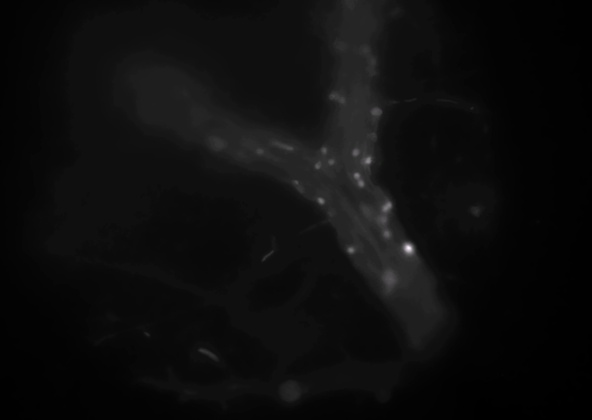cell: (402, 241, 416, 255), (369, 104, 383, 118), (349, 145, 363, 159), (361, 153, 375, 167), (317, 142, 331, 156), (310, 158, 324, 172), (324, 154, 338, 168), (326, 88, 340, 102), (350, 169, 364, 183), (334, 94, 348, 108), (354, 176, 368, 190), (343, 243, 357, 257), (382, 271, 396, 285), (380, 226, 394, 240), (382, 197, 396, 211), (375, 213, 389, 227), (378, 200, 392, 214), (313, 195, 327, 209), (288, 176, 302, 190), (252, 144, 266, 158), (208, 136, 222, 150), (358, 43, 372, 57), (367, 54, 381, 68), (334, 41, 348, 55), (367, 128, 381, 142)
